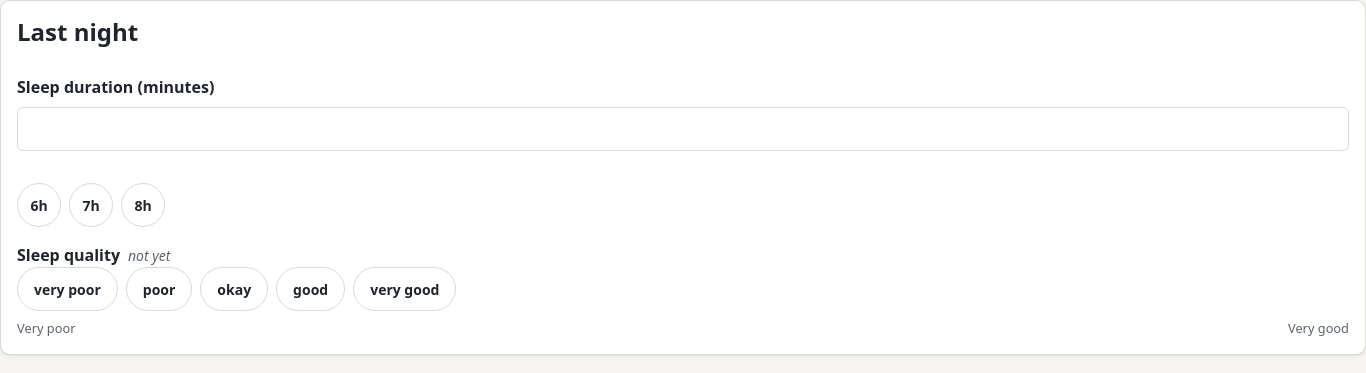
it: SleepLastNightSection › fills sleep duration from a quick-value shortcut
Click the button "7h" at (91, 205), box [69,183,113,227]
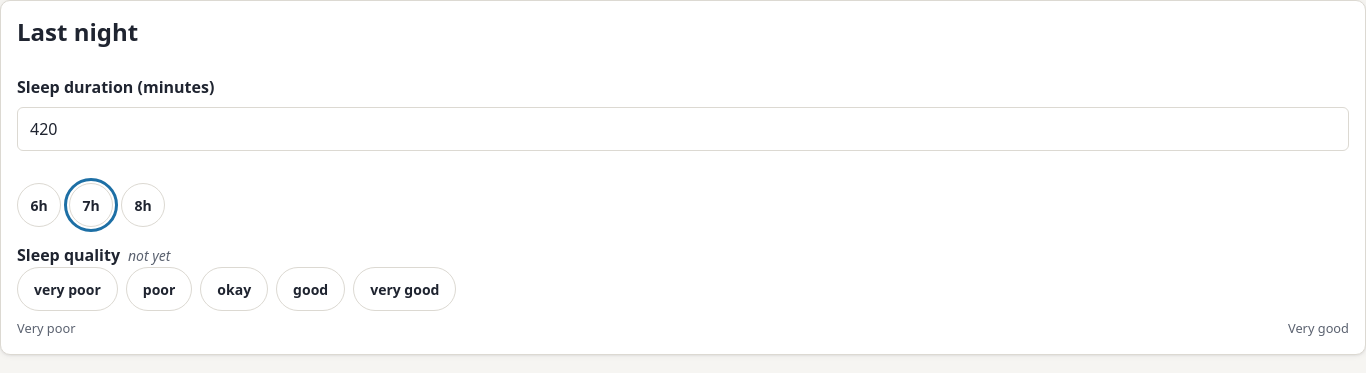
Result: the number field labelled "Sleep duration (minutes)" holds "420" at [17,107,1349,151]
